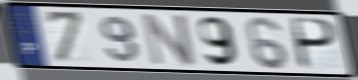6: (245, 14, 291, 71)
7: (45, 9, 86, 65)
9: (197, 15, 239, 68), (98, 14, 139, 63)
N: (140, 11, 198, 68)
P: (291, 16, 340, 72)
